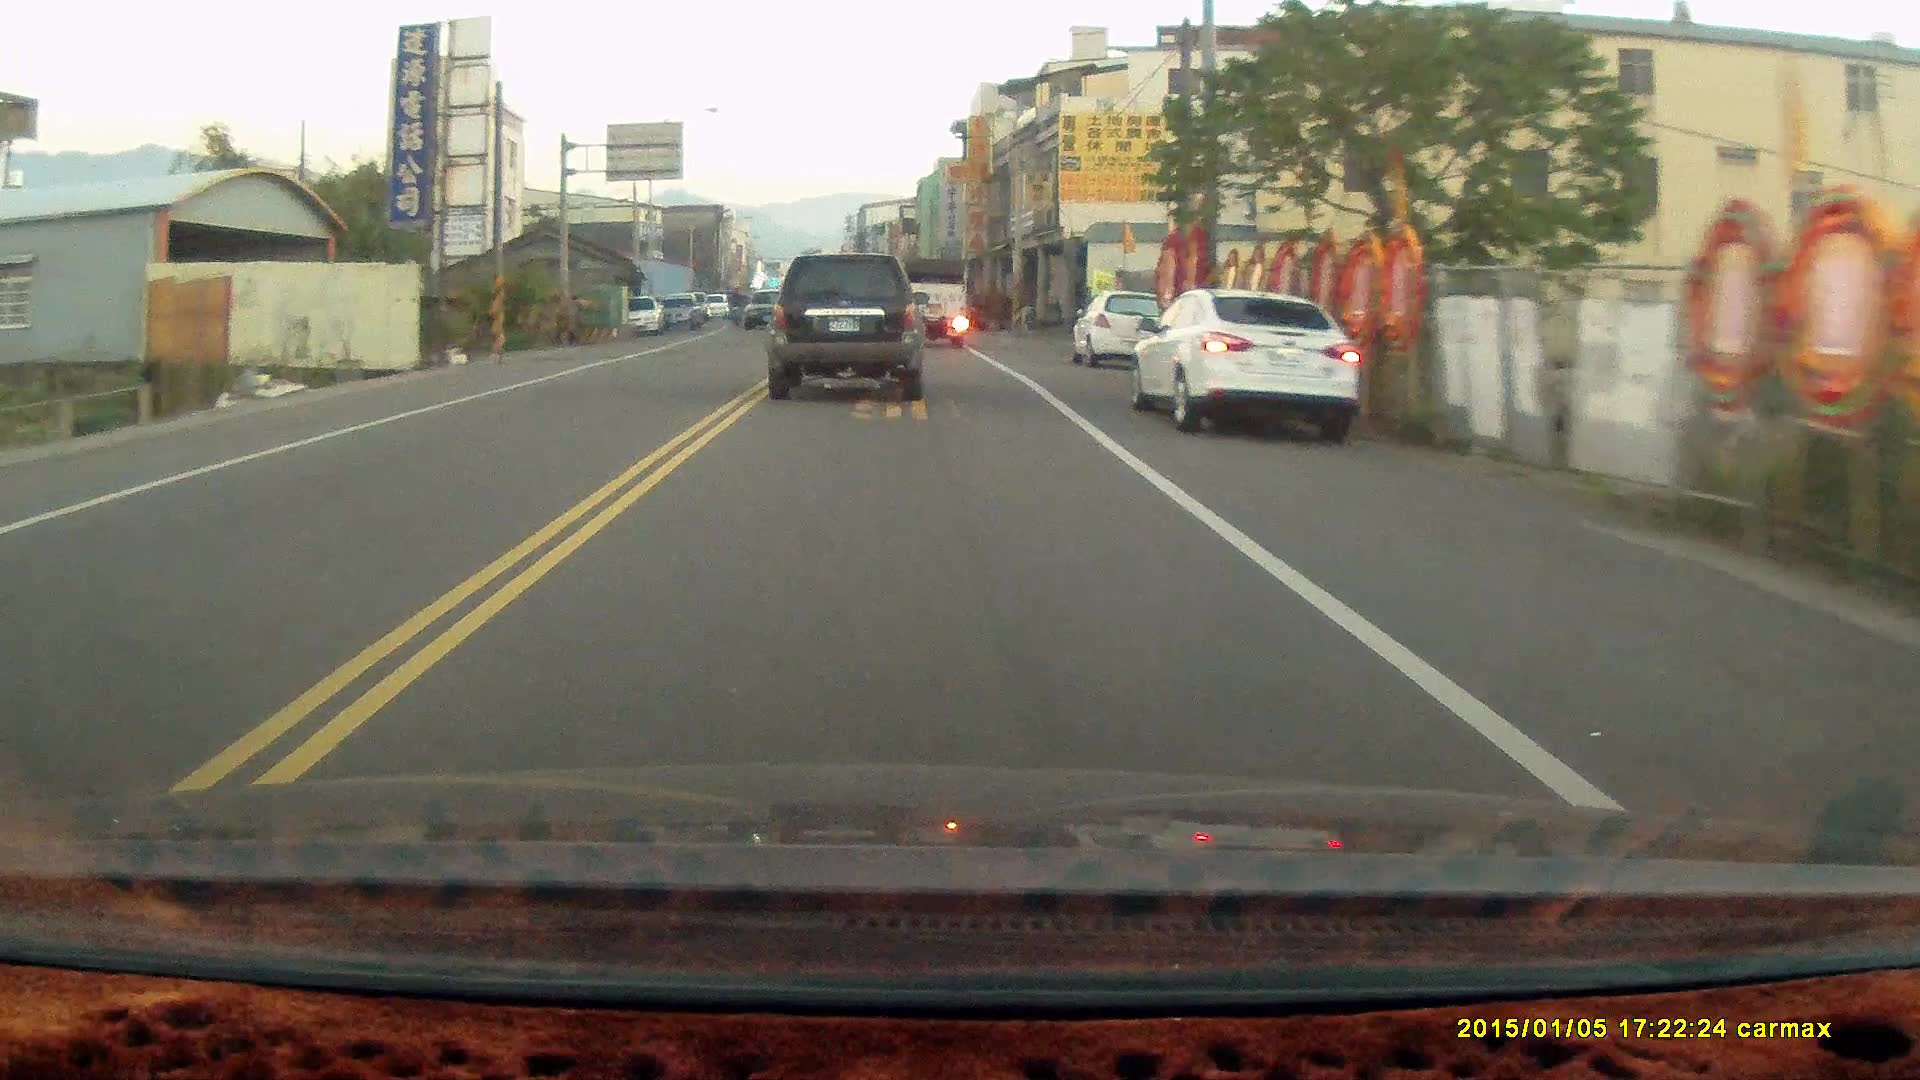vehicle: (1131, 290, 1362, 436), (769, 255, 928, 404), (1073, 291, 1172, 371), (895, 257, 972, 351)
